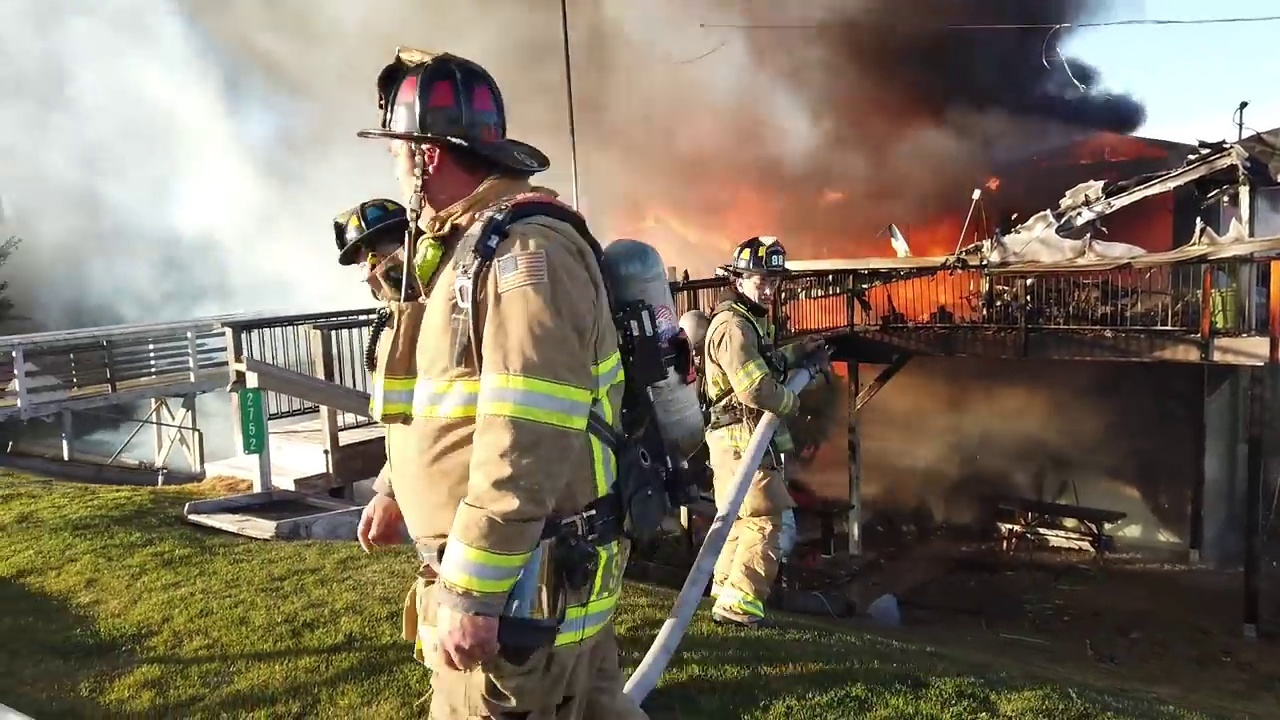fire: (785, 275, 989, 329), (880, 209, 954, 273)
smoke: (606, 1, 1172, 195), (1, 2, 331, 325), (870, 371, 1192, 561), (80, 383, 254, 481), (610, 200, 732, 274), (790, 420, 869, 505), (735, 198, 876, 244)
